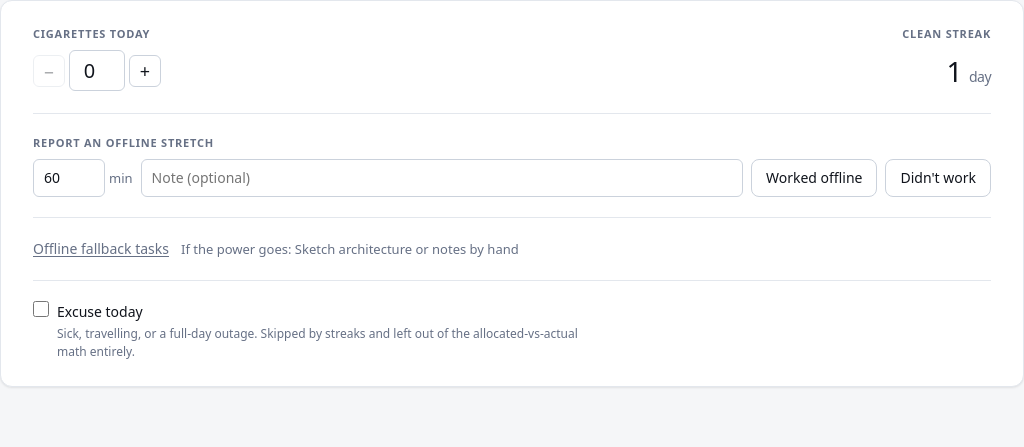
Test: outage self-report › reports a non-working stretch without any warning styling
What coordinates should you click on to do the following:
click the button "Didn't work"
I would click on:
 (938, 178)
Its box is [886,160,991,197].
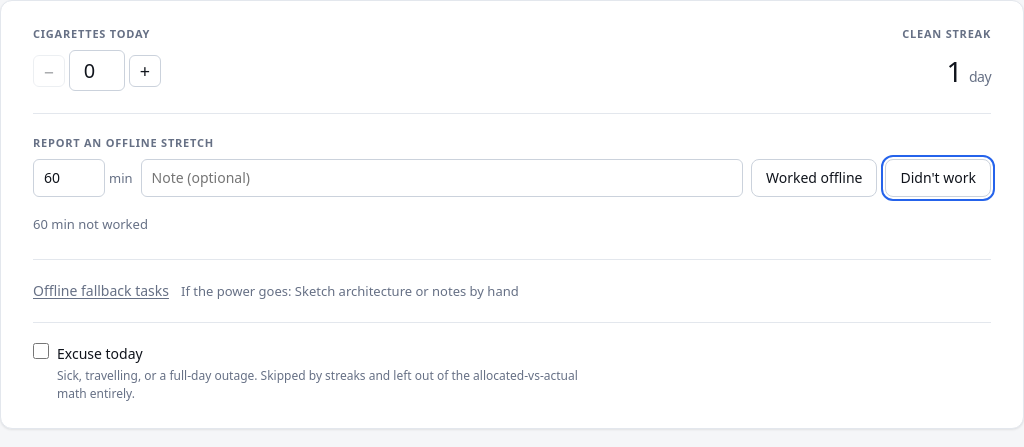
Result: the text "60 min not worked" is shown at [33,214,148,234]
